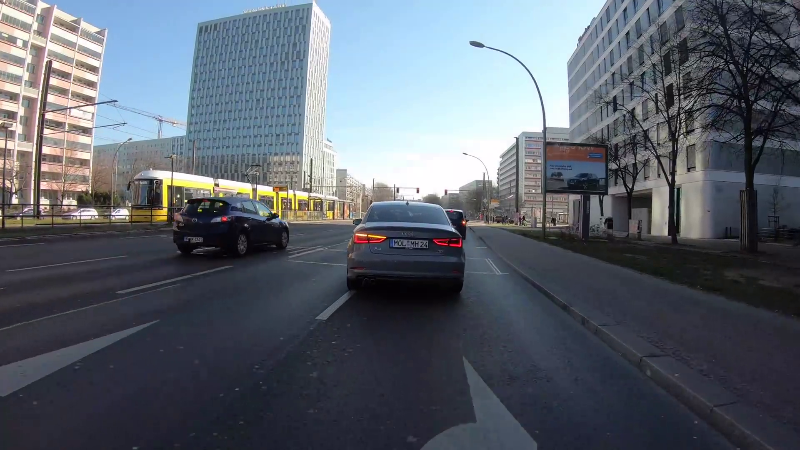Plate: (386, 236, 431, 252), (180, 234, 203, 244)
